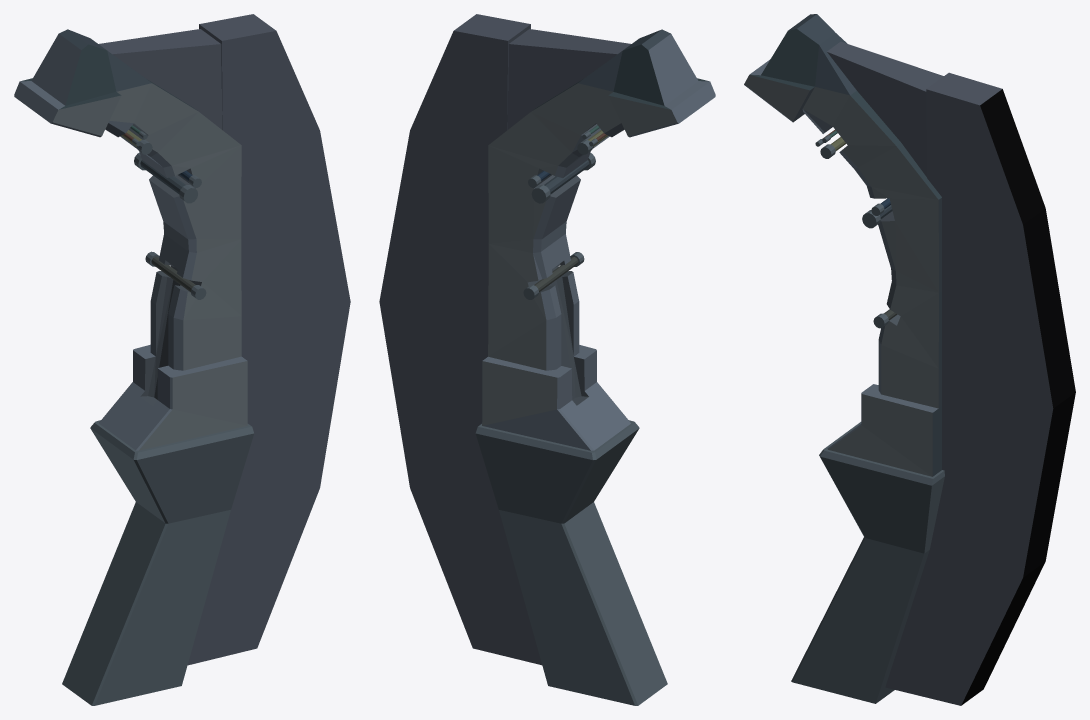
Rendered from hex-pillar.fbx.
3 views of the same model, side by side, from view 1: azimuth 30°, elevation 25°; view 2: azimuth 150°, elevation 25°; view 3: azimuth 330°, elevation 25° (orthographic).
Visible parts, largest first — view 1: pillar-back-extension, pillar, pillar-bottom-extension, pillar-top-extension, piller-pipes; view 2: pillar-back-extension, pillar, pillar-bottom-extension, pillar-top-extension, piller-pipes; view 3: pillar-back-extension, pillar, pillar-bottom-extension, pillar-top-extension, piller-pipes.
Boxes of the visible parts, bbox=[...] form: pillar-back-extension: bbox=[99, 14, 350, 665]; pillar: bbox=[14, 78, 247, 450]; pillar-bottom-extension: bbox=[62, 420, 254, 705]; pillar-top-extension: bbox=[31, 29, 151, 105]; piller-pipes: bbox=[121, 125, 206, 299]; pillar-back-extension: bbox=[379, 14, 630, 665]; pillar: bbox=[482, 78, 715, 450]; pillar-bottom-extension: bbox=[475, 420, 667, 705]; pillar-top-extension: bbox=[578, 29, 698, 105]; piller-pipes: bbox=[523, 125, 608, 299]; pillar-back-extension: bbox=[827, 41, 1075, 705]; pillar: bbox=[744, 59, 941, 476]; pillar-bottom-extension: bbox=[791, 422, 944, 703]; pillar-top-extension: bbox=[761, 14, 856, 95]; piller-pipes: bbox=[815, 130, 897, 328].
Bounding box in the file's own units: 17.79 × 5 × 36.48.
